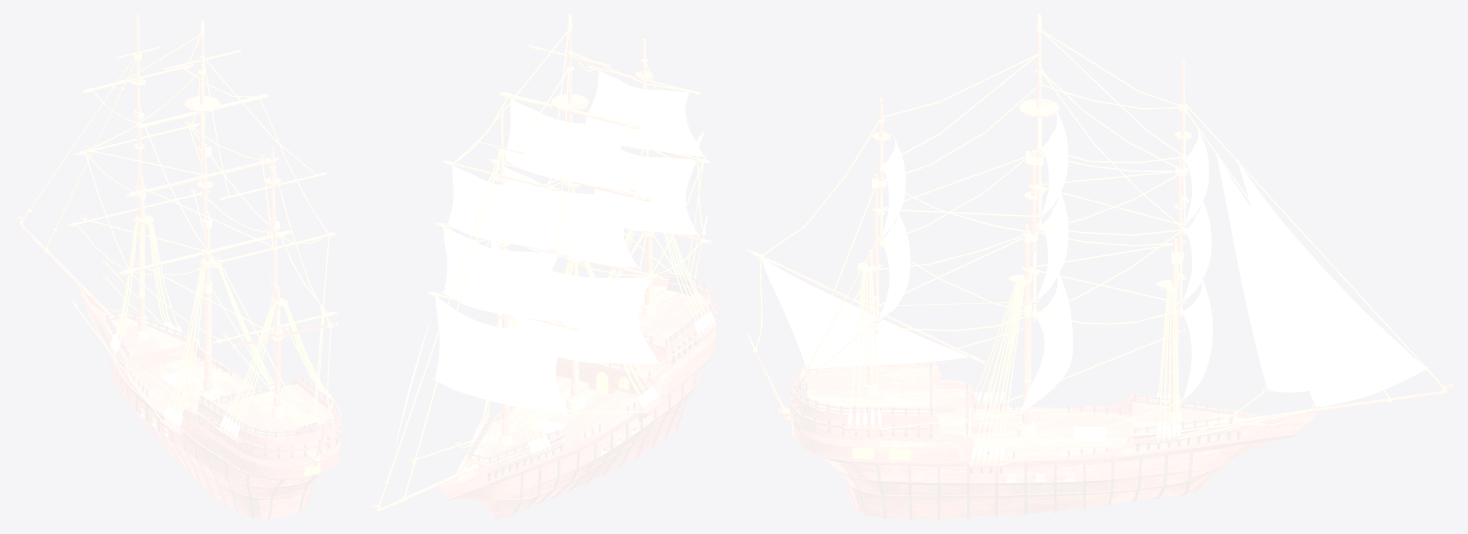
3 renders of one model, left to right at view 1: azimuth 30°, elevation 25°; view 2: azimuth 150°, elevation 25°; view 3: azimuth 270°, elevation 25°, orthographic. The views are drawn at different scales.
Parts seen in each view (by area): view 1: MainShip, Ropes, MainMast, Cylinder004, MainMastPoles, ForeMast, MainShrouds, Mizzen, KeelDetail, MizzenShrouds, ForeShrouds, MizzenPoles (+5 smaller); view 2: MainShip, ForeSail1, MainSail1, ForeSail2, MainSail3, MainSail2, Ropes, ForeSail3, MizzenSail2, MizzenSail1, KeelDetail, Cylinder004 (+12 smaller); view 3: MainShip, FlyingJib, Ropes, BackJib, Jib, MainMast, MainSail1, MainShrouds, Cylinder004, ForeMast, KeelDetail, ForeSail1 (+12 smaller).
Part boxes in pixels (bbox=[...]): MainShip: bbox=[78, 286, 342, 518]; Ropes: bbox=[21, 34, 331, 429]; MainMast: bbox=[184, 20, 220, 402]; Cylinder004: bbox=[106, 310, 339, 437]; MainMastPoles: bbox=[118, 49, 290, 275]; ForeMast: bbox=[130, 14, 153, 339]; MainShrouds: bbox=[163, 264, 274, 431]; Mizzen: bbox=[264, 147, 288, 417]; KeelDetail: bbox=[110, 358, 317, 519]; MizzenShrouds: bbox=[220, 304, 340, 439]; ForeShrouds: bbox=[110, 222, 178, 355]; MizzenPoles: bbox=[210, 172, 338, 348]; MainShip: bbox=[438, 278, 717, 519]; ForeSail1: bbox=[435, 295, 569, 411]; MainSail1: bbox=[490, 240, 659, 364]; ForeSail2: bbox=[443, 226, 559, 321]; MainSail3: bbox=[504, 98, 632, 191]; MainSail2: bbox=[503, 166, 637, 268]; Ropes: bbox=[379, 30, 703, 505]; ForeSail3: bbox=[448, 165, 553, 249]; MizzenSail2: bbox=[585, 70, 703, 156]; MizzenSail1: bbox=[594, 149, 697, 235]; KeelDetail: bbox=[506, 366, 704, 516]; Cylinder004: bbox=[467, 271, 714, 464]; MainShip: bbox=[789, 362, 1317, 518]; FlyingJib: bbox=[1238, 162, 1425, 406]; Ropes: bbox=[755, 30, 1443, 465]; BackJib: bbox=[762, 259, 968, 368]; Jib: bbox=[1217, 157, 1308, 392]; MainMast: bbox=[1008, 14, 1059, 438]; MainSail1: bbox=[1019, 273, 1072, 414]; MainShrouds: bbox=[970, 283, 1024, 464]; Cylinder004: bbox=[792, 361, 1233, 458]; ForeMast: bbox=[1156, 59, 1192, 421]; KeelDetail: bbox=[823, 452, 1193, 519]; ForeSail1: bbox=[1182, 279, 1212, 400].
Size of the model in its own units: 15919 by 39003 by 51073.
8 materials, 8 textured.
